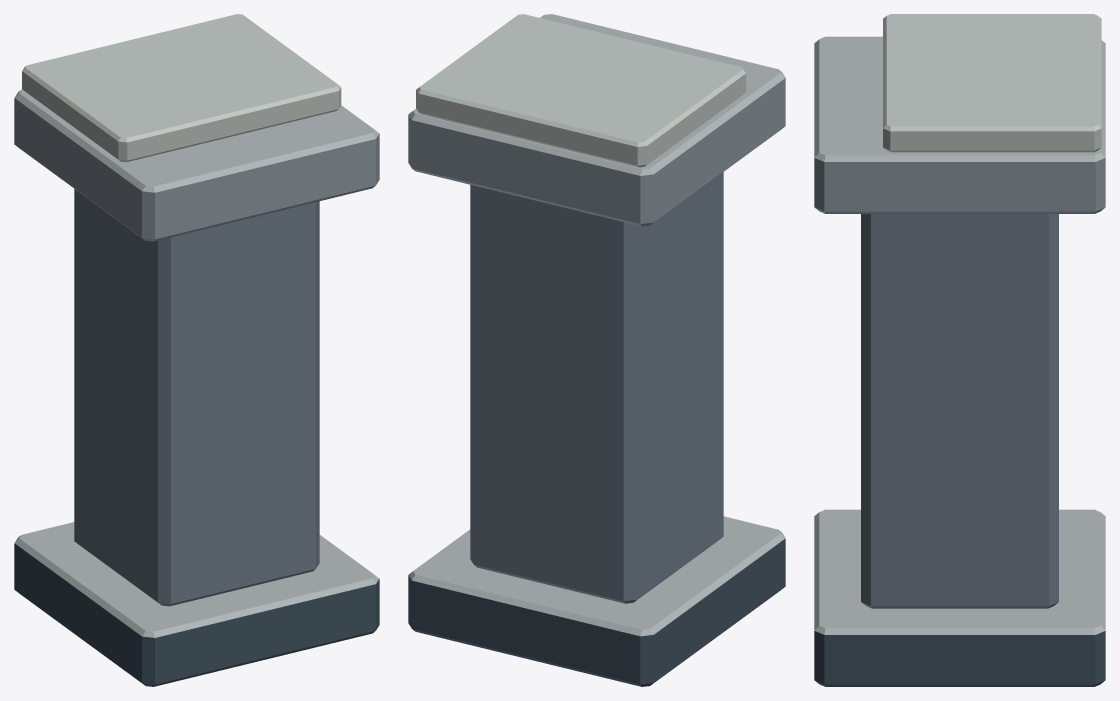
Rendered from pillar-small.glb.
The picture shows the model from 3 angles, left to right: view 1: azimuth 30°, elevation 25°; view 2: azimuth 150°, elevation 25°; view 3: azimuth 270°, elevation 25°; orthographic projection. The views are drawn at different scales.
Visible parts, largest first — view 1: pillar-small__body; view 2: pillar-small__body; view 3: pillar-small__body.
Part boxes in pixels (left/top/right/bottom): pillar-small__body: left=14, top=14, right=379, bottom=686; pillar-small__body: left=408, top=14, right=785, bottom=686; pillar-small__body: left=814, top=14, right=1105, bottom=686.
Size of the model in its own units: 0.72 by 1.52 by 0.72.
